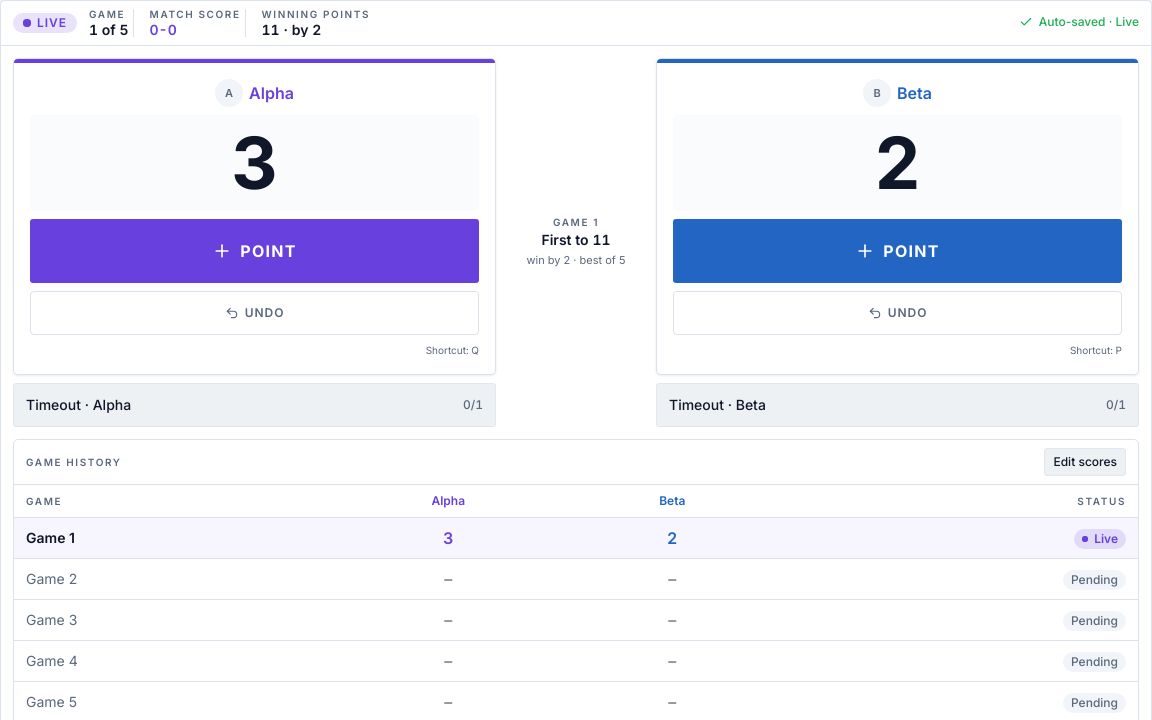
Scenario: TTConsole › nudges a towel break every six points and clears on the next
Click the button with test id "point-home" at (254, 251), box [30,219,479,283]
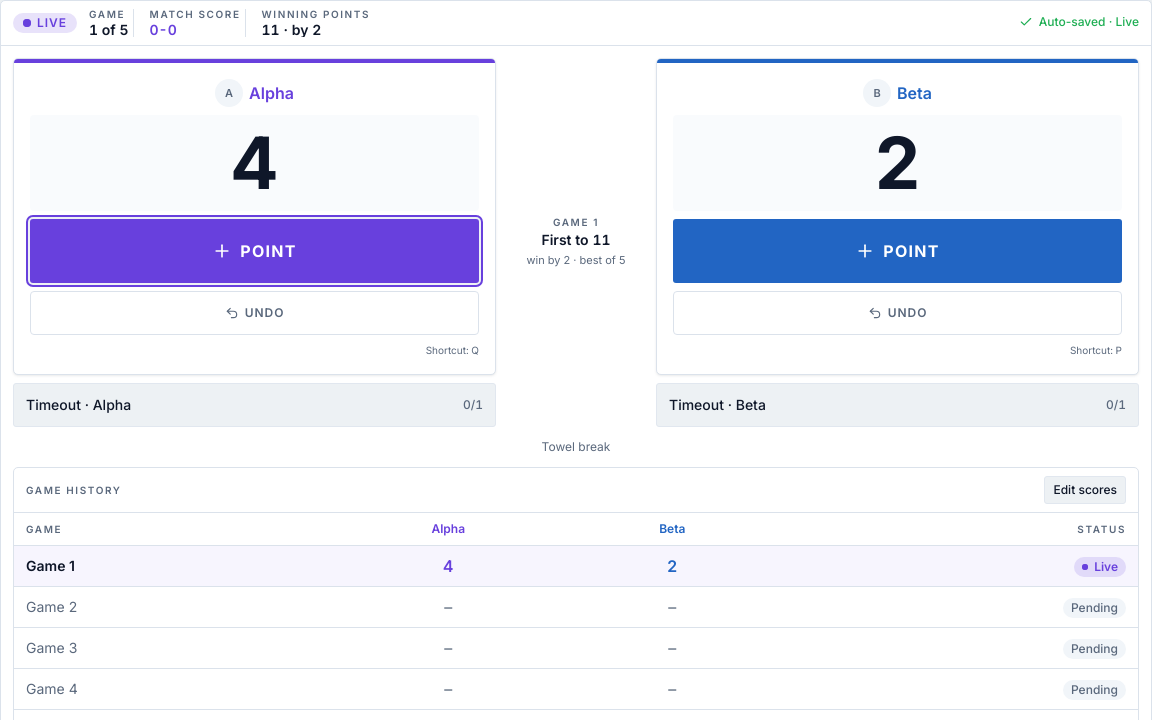
Check: the text "Towel break" is shown, box [542,439,610,454]
Click the button with test id "point-home" at (254, 251), box [30,219,479,283]
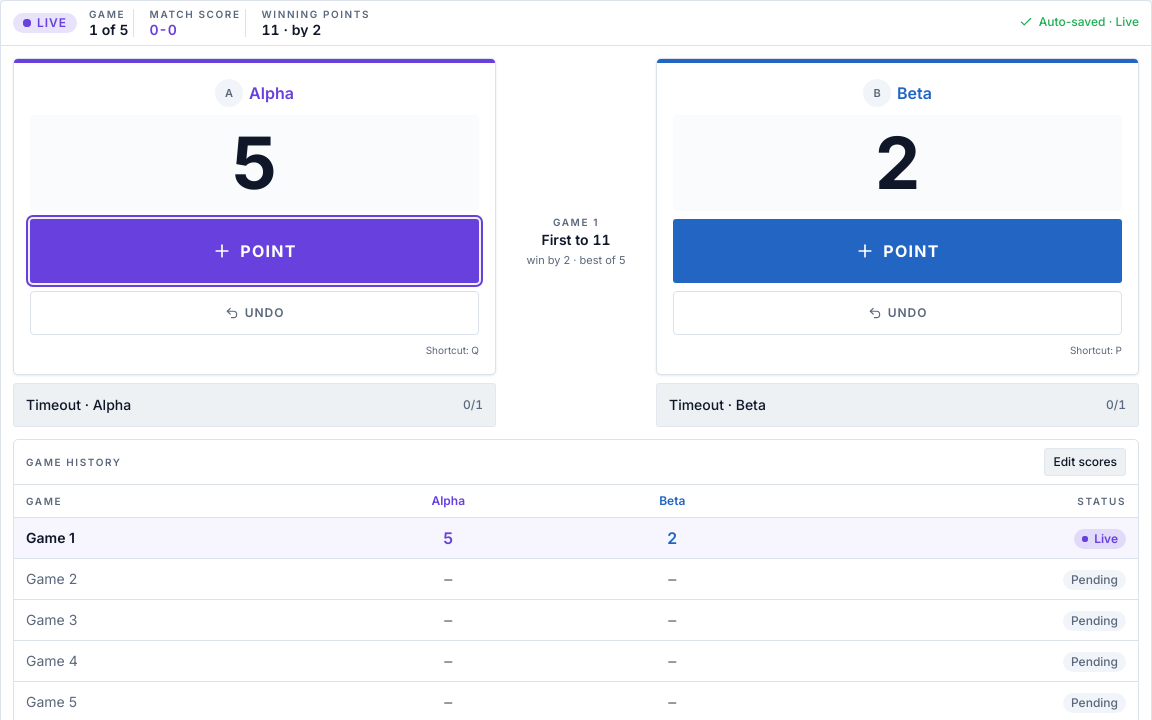
Check: the text with test id "towel-break" is gone
